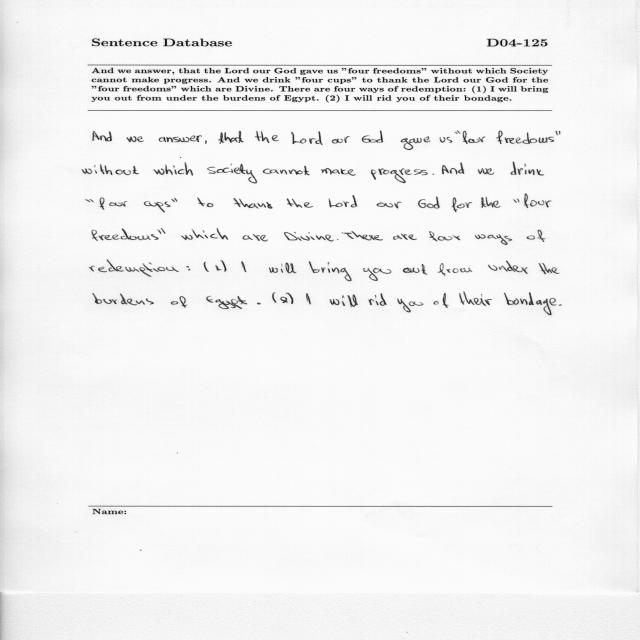word: (90, 260, 179, 277), (504, 292, 556, 315), (207, 164, 257, 184), (309, 262, 352, 282), (92, 228, 158, 241), (371, 168, 428, 183), (496, 131, 554, 144), (93, 293, 154, 305), (82, 165, 139, 176), (181, 228, 228, 240), (153, 162, 193, 176), (488, 260, 528, 274), (207, 296, 248, 309), (511, 162, 544, 176), (459, 292, 492, 306), (437, 263, 472, 276), (284, 232, 334, 241), (291, 131, 322, 145), (234, 198, 273, 209), (341, 231, 383, 241), (263, 166, 309, 175), (475, 234, 512, 245), (401, 136, 430, 150), (524, 194, 551, 208), (364, 268, 392, 281), (397, 299, 423, 313), (100, 197, 127, 210), (429, 231, 460, 242), (218, 131, 244, 144), (329, 195, 357, 207), (144, 201, 170, 213), (159, 136, 202, 143), (452, 198, 472, 213), (255, 131, 279, 143), (463, 131, 485, 144), (321, 168, 356, 176), (269, 263, 296, 273), (442, 163, 464, 175), (418, 197, 440, 209), (403, 264, 427, 275), (287, 198, 313, 208), (362, 131, 383, 143), (368, 293, 387, 306), (539, 263, 560, 274), (434, 293, 449, 308), (527, 230, 545, 242), (481, 197, 500, 208), (342, 295, 358, 308), (171, 296, 188, 308), (93, 131, 112, 141), (377, 202, 402, 209), (243, 235, 268, 242), (332, 136, 350, 144), (197, 198, 213, 207), (393, 234, 417, 240), (281, 293, 294, 304), (478, 168, 494, 175), (127, 136, 144, 142), (440, 137, 453, 143), (221, 260, 227, 271), (241, 262, 247, 273), (330, 299, 340, 305), (306, 294, 311, 305), (204, 262, 209, 272), (272, 293, 277, 303), (157, 228, 165, 234), (216, 265, 222, 271), (514, 198, 520, 203), (171, 198, 178, 202), (85, 199, 94, 202), (555, 131, 561, 135), (186, 266, 190, 270), (455, 131, 460, 134), (205, 140, 207, 144), (257, 303, 261, 305), (559, 304, 562, 306), (433, 174, 435, 175), (337, 239, 339, 240)
